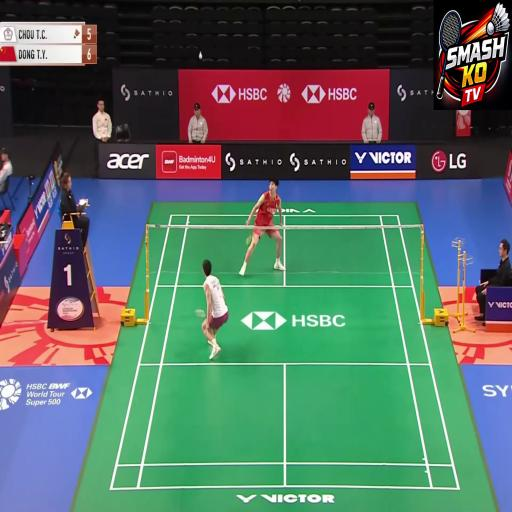player: (191, 241, 234, 391), (256, 165, 294, 312)
